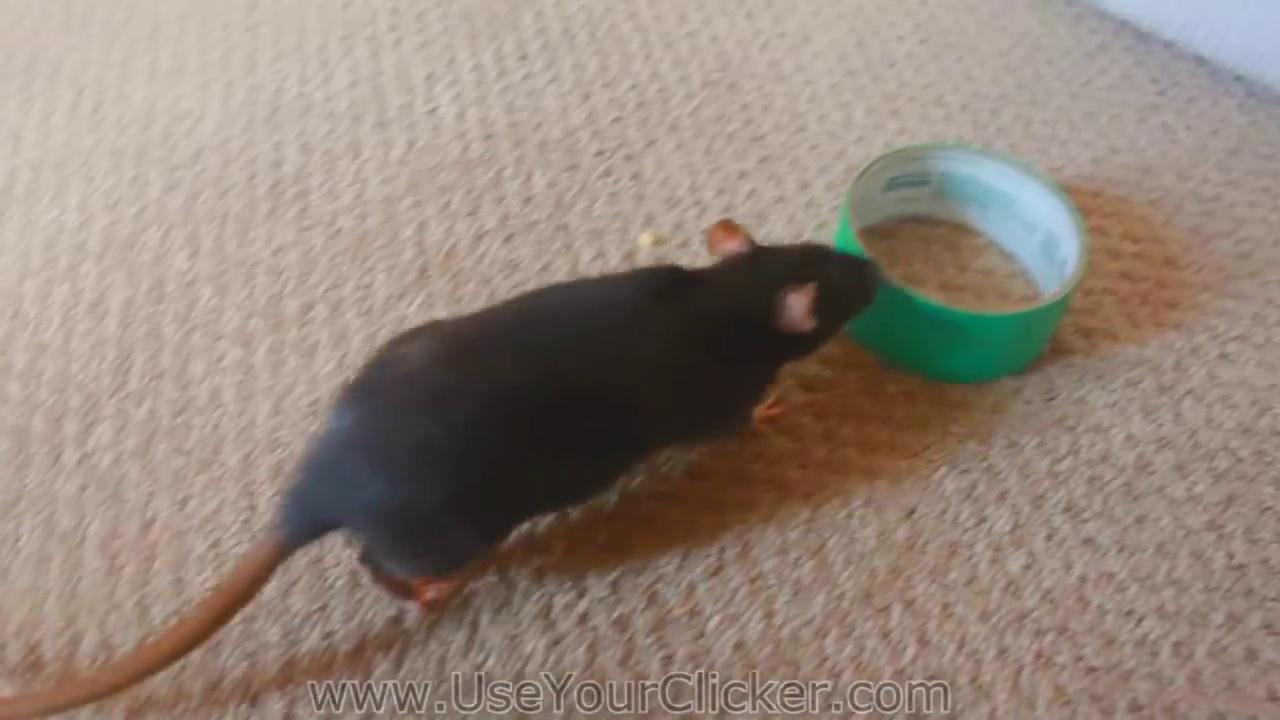rat: (0, 218, 879, 720)
